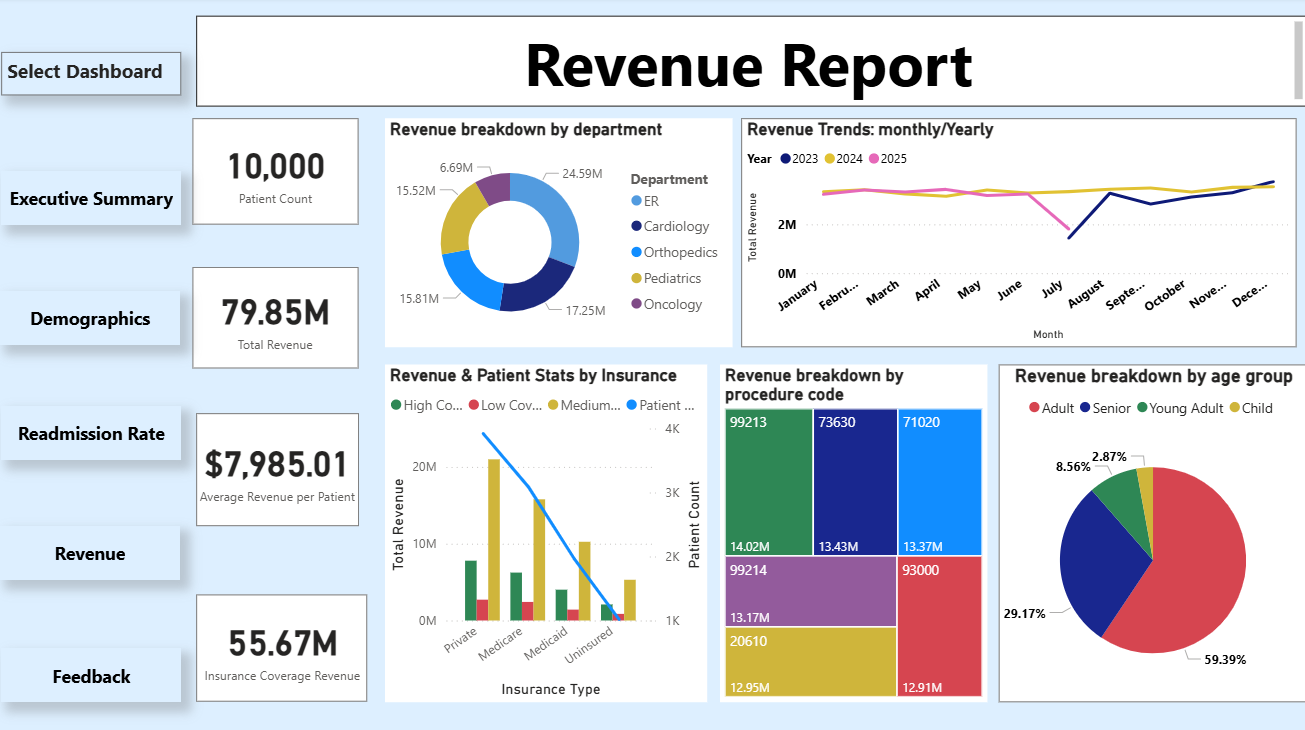

The page's visual inventory and layout, read from the dashboard file:
{"tool":"powerbi","page":{"name":"Revenue","canvas":[1280,720],"ordinal":3},"visuals":[{"type":"card","fields":{"Values":["emr_data.Patient Count"]},"box":[188.3,118.6,162.6,103.9],"z":0},{"type":"textbox","box":[191.4,18.6,1088.6,88.6],"z":1000},{"type":"card","fields":{"Values":["emr_data.Total Revenue"]},"box":[188.3,264.1,162.6,99],"z":2000},{"type":"pieChart","title":"Revenue breakdown by age group","fields":{"Category":["emr_data.Age Group"],"Y":["emr_data.Total Revenue"]},"box":[977,359.5,303.3,330.2],"z":3000},{"type":"lineChart","title":"Revenue Trends: monthly/Yearly","fields":{"Y":["emr_data.Total Revenue"],"Category":["emr_data.Visit Date.Variation.Date Hierarchy.Month"],"Series":["emr_data.Visit Date.Variation.Date Hierarchy.Year"]},"box":[725.1,118.6,542.9,223.8],"z":4000},{"type":"textbox","box":[1.2,53.8,176.1,42.8],"z":5000},{"type":"actionButton","title":"Executive Summary","box":[1.2,399.9,176.1,52.6],"z":6000},{"type":"actionButton","title":"Executive Summary","box":[1.2,170,176.1,52.6],"z":7000},{"type":"actionButton","title":"Executive Summary","box":[0,517.3,176.1,52.6],"z":8000},{"type":"actionButton","title":"Executive Summary","box":[0,287.4,176.1,52.6],"z":9000},{"type":"actionButton","title":"Executive Summary","box":[1.2,637.1,176.1,52.6],"z":10000},{"type":"card","fields":{"Values":["emr_data.Insurance Coverage Revenue"]},"box":[192,584.5,167.5,105.2],"z":11000},{"type":"card","fields":{"Values":["emr_data.Average Revenue per Patient"]},"box":[192,407.2,159,110.1],"z":12000},{"type":"donutChart","title":"Revenue breakdown by department","fields":{"Y":["emr_data.Total Revenue"],"Category":["emr_data.Hospital Department"]},"box":[376.6,118.6,339.9,223.8],"z":13000},{"type":"treemap","title":"Revenue breakdown by procedure code","fields":{"Values":["emr_data.Total Revenue"],"Group":["emr_data.Procedure Code"]},"box":[704.4,359.5,261.7,330.2],"z":14000},{"type":"lineClusteredColumnComboChart","title":"Revenue & Patient Stats by Insurance","fields":{"Category":["emr_data.Insurance Type"],"Y":["emr_data.Total Revenue"],"Y2":["emr_data.Patient Count"],"Series":["emr_data.Insurance Coverage Category"]},"box":[376.6,359.5,315.5,330.2],"z":15000}]}

Visuals, with their boxes in screenshot pixels (x1, y1, x2, y2), scaled from the page's 1280x720 canvas onto the 1305x730 screenshot:
card - emr_data.Patient Count: 192,120,358,226
textbox: 195,19,1304,109
card - emr_data.Total Revenue: 192,268,358,368
"Revenue breakdown by age group" pieChart: 996,364,1304,699
"Revenue Trends: monthly/Yearly" lineChart: 739,120,1293,347
textbox: 1,55,181,98
"Executive Summary" actionButton: 1,405,181,459
"Executive Summary" actionButton: 1,172,181,226
"Executive Summary" actionButton: 0,524,180,578
"Executive Summary" actionButton: 0,291,180,345
"Executive Summary" actionButton: 1,646,181,699
card - emr_data.Insurance Coverage Revenue: 196,593,367,699
card - emr_data.Average Revenue per Patient: 196,413,358,524
"Revenue breakdown by department" donutChart: 384,120,730,347
"Revenue breakdown by procedure code" treemap: 718,364,985,699
"Revenue & Patient Stats by Insurance" lineClusteredColumnComboChart: 384,364,706,699
